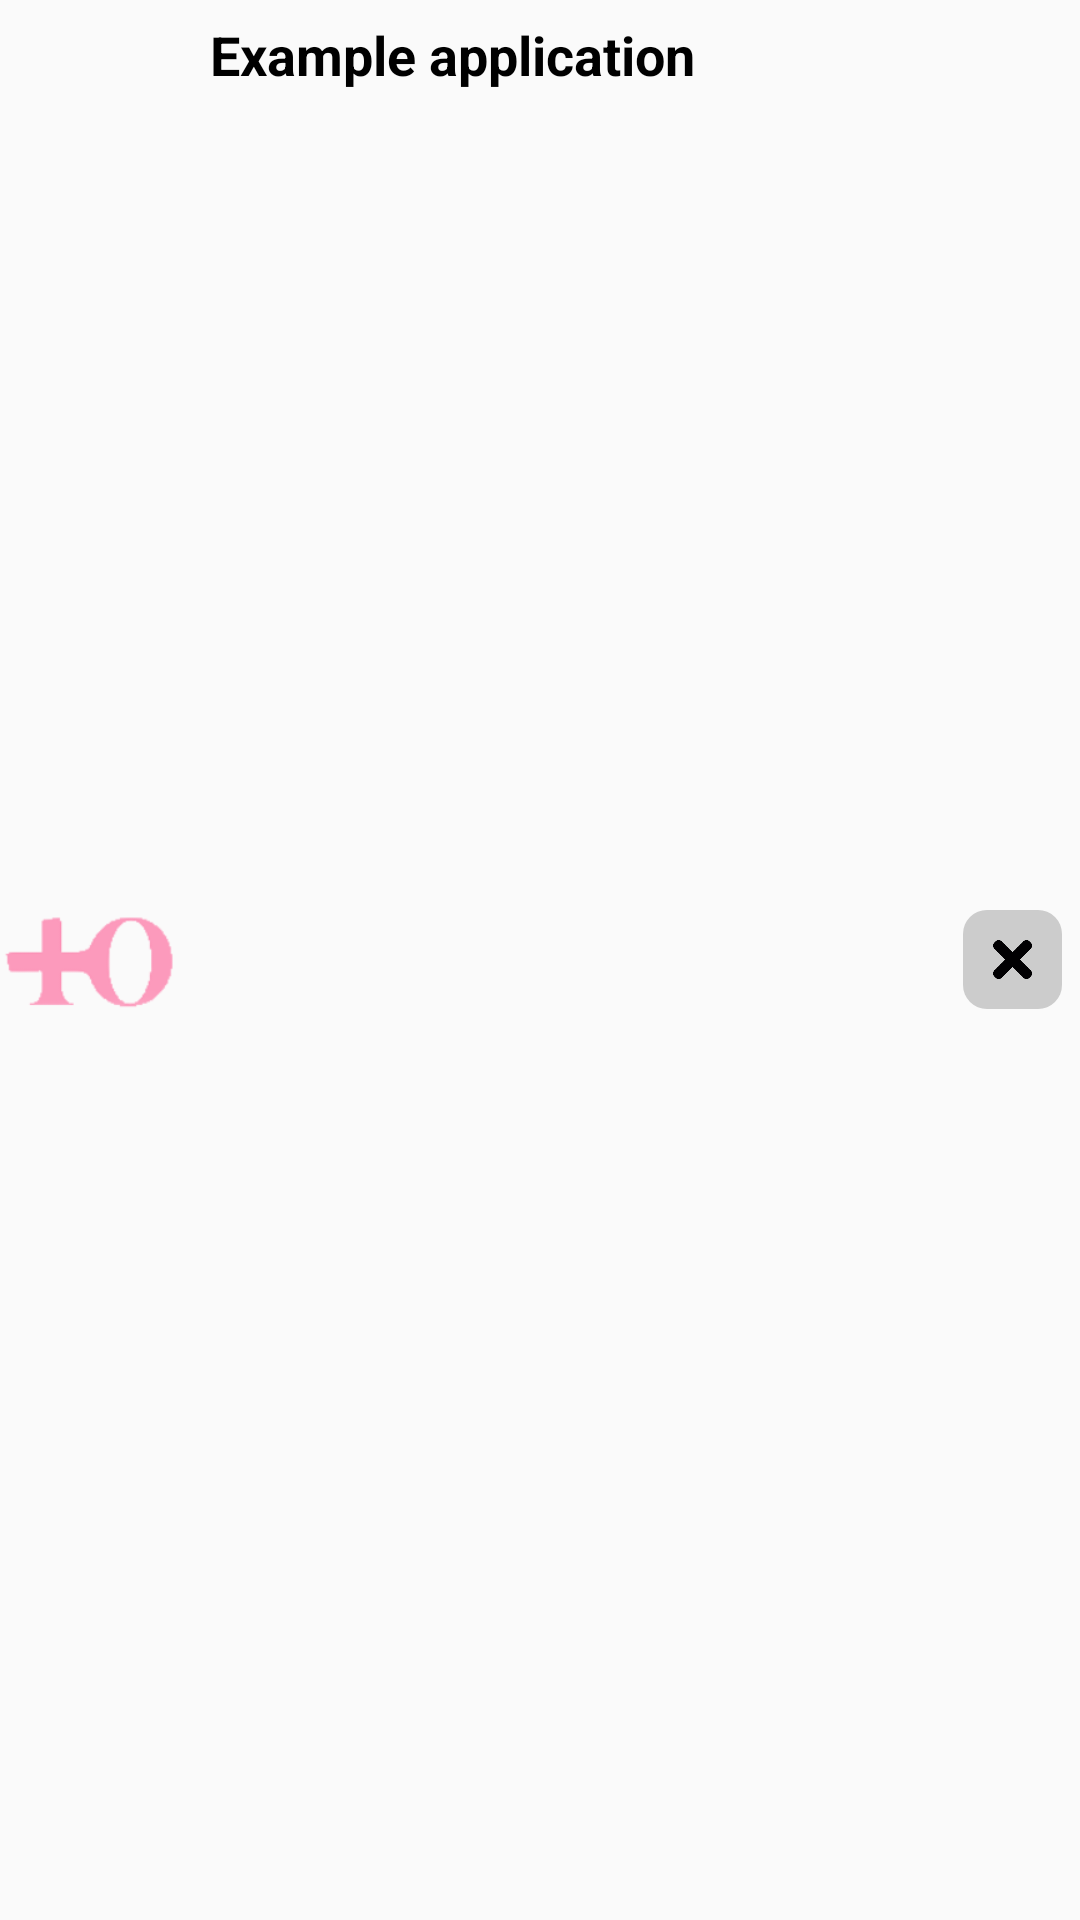

Icons on this 1080 x 1920 Android screen, each with the point to tap as point (x, y):
delete: point (1012, 959)
